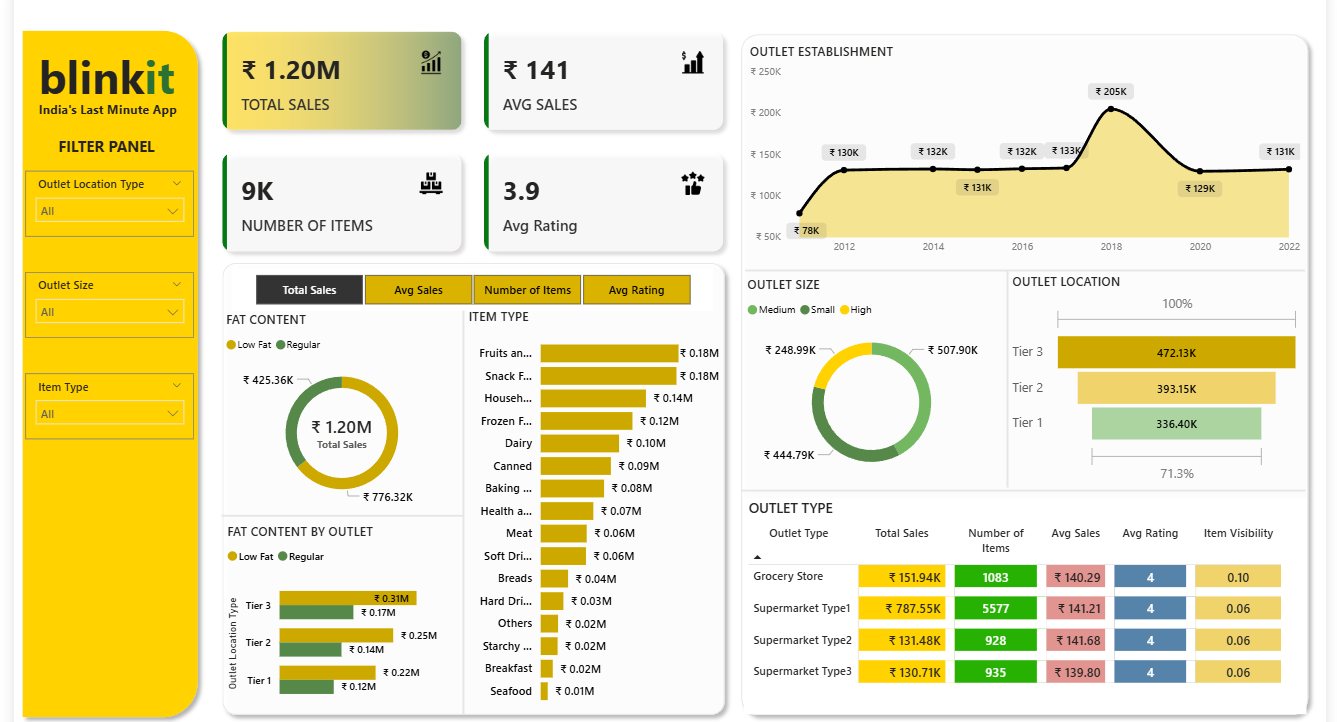

Layout of this report page (visuals, bound fields, positions):
{"tool":"powerbi","page":{"name":"Page 1","canvas":[1400,800],"ordinal":0},"visuals":[{"type":"shape","box":[0,32.2,205.1,750.7],"z":0},{"type":"textbox","box":[21,52.5,169.6,78],"z":1000},{"type":"textbox","box":[21.4,111.3,170.2,32.2],"z":2000},{"type":"cardVisual","fields":{"Data":["BlinkIT Grocery Data.Total Sales","BlinkIT Grocery Data.Avg Sales","BlinkIT Grocery Data.Number of Items","BlinkIT Grocery Data.Avg Rating"]},"box":[205.1,25.5,569.7,269.4],"z":3000},{"type":"shape","box":[213.1,280.2,553.6,500],"z":4000},{"type":"donutChart","title":"FAT CONTENT","fields":{"Y":["BlinkIT Grocery Data.Total Sales"],"Category":["BlinkIT Grocery Data.Item Fat Content"]},"box":[221.4,340,257.1,215.7],"z":5000},{"type":"slicer","fields":{"Values":["Metrics.Metrics"]},"box":[231.9,294.9,513.4,45.6],"z":6000},{"type":"cardVisual","fields":{"Data":["BlinkIT Grocery Data.Total Sales"]},"box":[286.9,433,126,71],"z":7000},{"type":"clusteredBarChart","title":"FAT CONTENT BY OUTLET","fields":{"Y":["BlinkIT Grocery Data.Total Sales"],"Category":["BlinkIT Grocery Data.Outlet Location Type"],"Series":["BlinkIT Grocery Data.Item Fat Content"]},"box":[222.9,565.7,257.1,205.7],"z":8000},{"type":"shape","box":[221.2,552.3,257.4,13.4],"z":9000},{"type":"shape","box":[467.8,340.5,22.8,430.3],"z":10000},{"type":"barChart","title":"ITEM TYPE","fields":{"Y":["BlinkIT Grocery Data.Total Sales"],"Category":["BlinkIT Grocery Data.Item Type"]},"box":[479.9,336.5,277.5,434.3],"z":11000},{"type":"shape","box":[767.1,35.7,622.9,744.3],"z":12000},{"type":"lineChart","title":"OUTLET ESTABLISHMENT","fields":{"Y":["BlinkIT Grocery Data.Total Sales"],"Category":["BlinkIT Grocery Data.Outlet Establishment Year"]},"box":[780,52.9,597.1,235.7],"z":13000},{"type":"shape","box":[780,290,597.1,12.9],"z":14000},{"type":"donutChart","title":"OUTLET SIZE","fields":{"Y":["BlinkIT Grocery Data.Total Sales"],"Category":["BlinkIT Grocery Data.Outlet Size"]},"box":[777.1,302.9,275,225],"z":15000},{"type":"shape","box":[1052.9,297.1,12.9,231.4],"z":16000},{"type":"funnel","title":"OUTLET LOCATION","fields":{"Category":["BlinkIT Grocery Data.Outlet Location Type"],"Y":["Sum(BlinkIT Grocery Data.Sales)"]},"box":[1060,298.6,317.1,230],"z":17000},{"type":"shape","box":[775.7,524.3,601.4,15.7],"z":18000},{"type":"pivotTable","title":"OUTLET TYPE","fields":{"Rows":["BlinkIT Grocery Data.Outlet Type"],"Values":["BlinkIT Grocery Data.Total Sales","BlinkIT Grocery Data.Number of Items","BlinkIT Grocery Data.Avg Sales","BlinkIT Grocery Data.Avg Rating","Avg(BlinkIT Grocery Data.Item Visibility)"]},"box":[778.8,540,600,230],"z":19000},{"type":"slicer","fields":{"Values":["BlinkIT Grocery Data.Outlet Location Type"]},"box":[11.4,190,180,70],"z":19001},{"type":"slicer","fields":{"Values":["BlinkIT Grocery Data.Outlet Size"]},"box":[11.4,298.6,180,70],"z":19002},{"type":"slicer","fields":{"Values":["BlinkIT Grocery Data.Item Type"]},"box":[11.4,407.1,180,70],"z":19003},{"type":"textbox","box":[27.1,148.6,144.3,35.7],"z":19004}]}

Visuals, with their boxes on the page's 1400x800 design canvas (x1, y1, x2, y2). These are canvas units, not pixel positions in the 1337x722 screenshot, which may show the page scaled, cropped or inside an application window:
shape: pyautogui.locateOnScreen(0, 32, 205, 783)
textbox: pyautogui.locateOnScreen(21, 52, 191, 130)
textbox: pyautogui.locateOnScreen(21, 111, 192, 144)
cardVisual - BlinkIT Grocery Data.Total Sales x BlinkIT Grocery Data.Avg Sales: pyautogui.locateOnScreen(205, 26, 775, 295)
shape: pyautogui.locateOnScreen(213, 280, 767, 780)
"FAT CONTENT" donutChart: pyautogui.locateOnScreen(221, 340, 478, 556)
slicer - Metrics.Metrics: pyautogui.locateOnScreen(232, 295, 745, 340)
cardVisual - BlinkIT Grocery Data.Total Sales: pyautogui.locateOnScreen(287, 433, 413, 504)
"FAT CONTENT BY OUTLET" clusteredBarChart: pyautogui.locateOnScreen(223, 566, 480, 771)
shape: pyautogui.locateOnScreen(221, 552, 479, 566)
shape: pyautogui.locateOnScreen(468, 340, 491, 771)
"ITEM TYPE" barChart: pyautogui.locateOnScreen(480, 336, 757, 771)
shape: pyautogui.locateOnScreen(767, 36, 1390, 780)
"OUTLET ESTABLISHMENT" lineChart: pyautogui.locateOnScreen(780, 53, 1377, 289)
shape: pyautogui.locateOnScreen(780, 290, 1377, 303)
"OUTLET SIZE" donutChart: pyautogui.locateOnScreen(777, 303, 1052, 528)
shape: pyautogui.locateOnScreen(1053, 297, 1066, 528)
"OUTLET LOCATION" funnel: pyautogui.locateOnScreen(1060, 299, 1377, 529)
shape: pyautogui.locateOnScreen(776, 524, 1377, 540)
"OUTLET TYPE" pivotTable: pyautogui.locateOnScreen(779, 540, 1379, 770)
slicer - BlinkIT Grocery Data.Outlet Location Type: pyautogui.locateOnScreen(11, 190, 191, 260)
slicer - BlinkIT Grocery Data.Outlet Size: pyautogui.locateOnScreen(11, 299, 191, 369)
slicer - BlinkIT Grocery Data.Item Type: pyautogui.locateOnScreen(11, 407, 191, 477)
textbox: pyautogui.locateOnScreen(27, 149, 171, 184)
